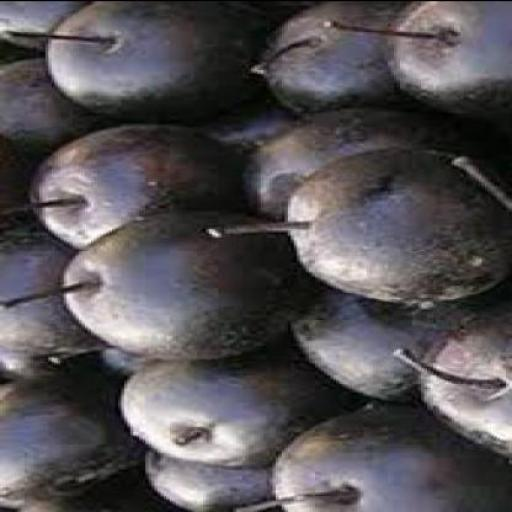biodegradable: (58, 210, 304, 364), (285, 148, 509, 307), (279, 271, 500, 401), (42, 2, 266, 122), (27, 124, 236, 249), (266, 405, 509, 511), (239, 107, 455, 224), (118, 350, 313, 467), (255, 2, 415, 119), (0, 373, 128, 507), (418, 303, 509, 467), (382, 2, 510, 115), (0, 232, 79, 382), (137, 452, 277, 510), (0, 57, 76, 153), (0, 2, 73, 50)
